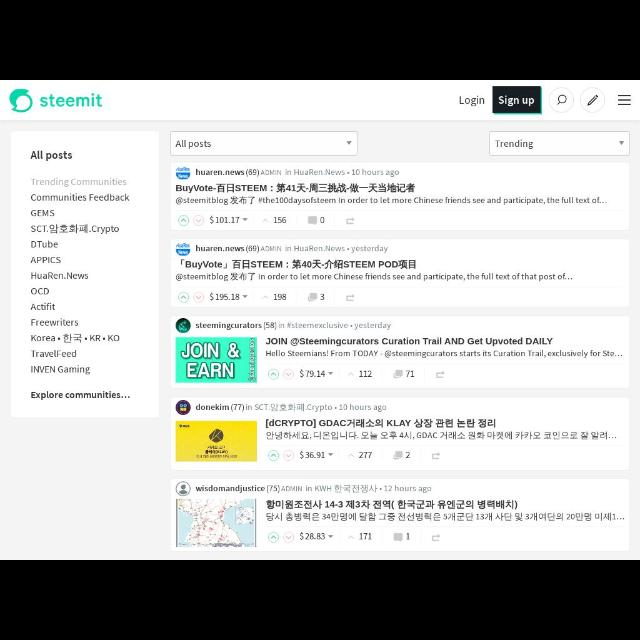button: (549, 86, 575, 114), (580, 87, 604, 113), (616, 92, 632, 108), (346, 216, 356, 228), (434, 371, 446, 381), (430, 452, 442, 462), (431, 533, 442, 543), (346, 293, 356, 303)
icon: (617, 94, 631, 106), (587, 95, 599, 107), (178, 214, 190, 226), (177, 292, 189, 304), (556, 94, 568, 105), (268, 451, 280, 462), (308, 292, 318, 304), (267, 370, 279, 380), (284, 532, 294, 544), (268, 532, 278, 544), (392, 369, 403, 379), (307, 215, 317, 225), (284, 370, 294, 380), (284, 450, 294, 460), (345, 217, 355, 226), (393, 450, 402, 460), (393, 534, 403, 542), (432, 452, 441, 460), (346, 294, 354, 302), (436, 371, 444, 379), (432, 534, 440, 542), (346, 141, 352, 145), (262, 218, 268, 222), (242, 294, 248, 298), (262, 295, 268, 299), (348, 373, 354, 377), (348, 536, 354, 540), (327, 534, 333, 538), (620, 141, 624, 145), (328, 452, 332, 456), (242, 218, 248, 220), (328, 372, 334, 374), (348, 454, 354, 456)
image: (176, 498, 258, 548), (175, 336, 258, 384), (175, 420, 257, 462), (10, 88, 32, 112), (176, 481, 192, 497), (176, 318, 190, 334), (176, 400, 190, 416), (176, 166, 190, 180), (176, 242, 190, 256), (193, 216, 204, 227), (192, 292, 204, 302)
panel: (10, 130, 160, 420)
spinner: (170, 131, 358, 157), (488, 132, 630, 156), (299, 531, 335, 543), (209, 292, 249, 302), (209, 215, 247, 225), (300, 450, 334, 460), (299, 369, 335, 378)
text: (29, 193, 132, 374), (176, 273, 574, 283), (176, 197, 608, 206), (266, 431, 618, 442), (266, 512, 626, 522), (266, 499, 518, 511), (176, 182, 416, 194), (266, 350, 624, 358), (266, 337, 552, 347), (264, 418, 498, 429), (195, 485, 432, 495), (182, 259, 416, 269), (196, 168, 400, 178), (196, 321, 392, 331), (195, 244, 388, 254), (196, 403, 388, 413), (29, 389, 131, 401), (30, 177, 128, 187), (40, 94, 104, 108), (28, 150, 72, 162), (498, 94, 536, 106), (458, 95, 487, 107), (173, 140, 213, 148), (494, 140, 534, 148), (210, 215, 240, 225), (210, 292, 240, 302), (300, 450, 326, 460), (299, 531, 325, 541), (300, 370, 324, 378), (359, 369, 373, 378), (358, 532, 372, 540), (274, 216, 286, 224), (358, 452, 372, 458), (274, 294, 286, 300), (406, 370, 414, 378), (320, 292, 326, 300), (320, 216, 324, 224), (406, 532, 410, 540), (406, 452, 410, 458)
textbutton: (492, 86, 544, 115)
toolbar: (1, 82, 639, 118)
